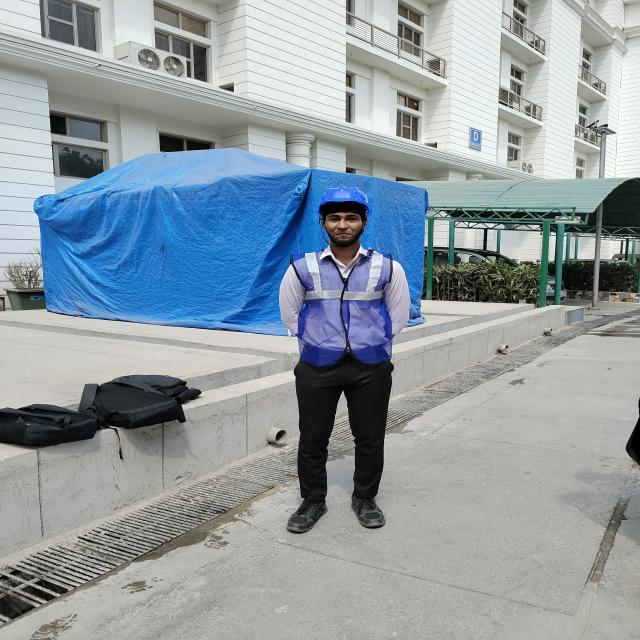safe: (280, 186, 410, 533)
